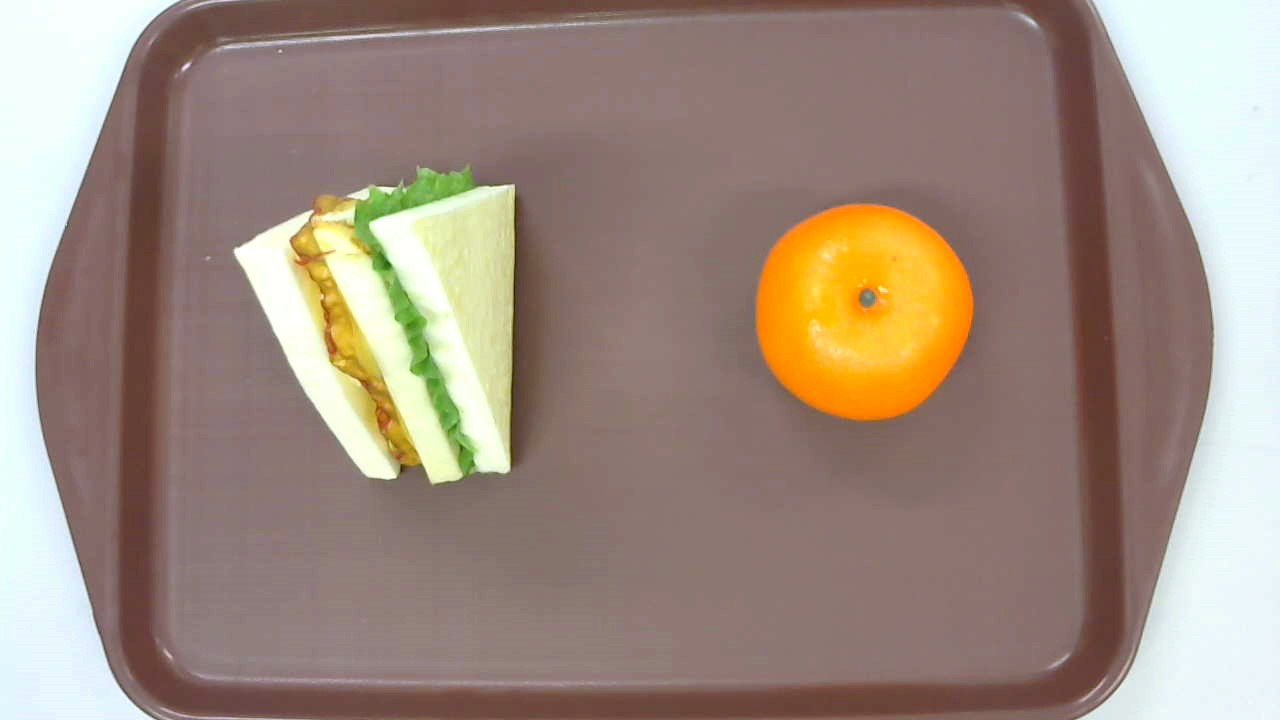orange: (754, 203, 973, 421)
sandwich: (232, 163, 516, 484)
